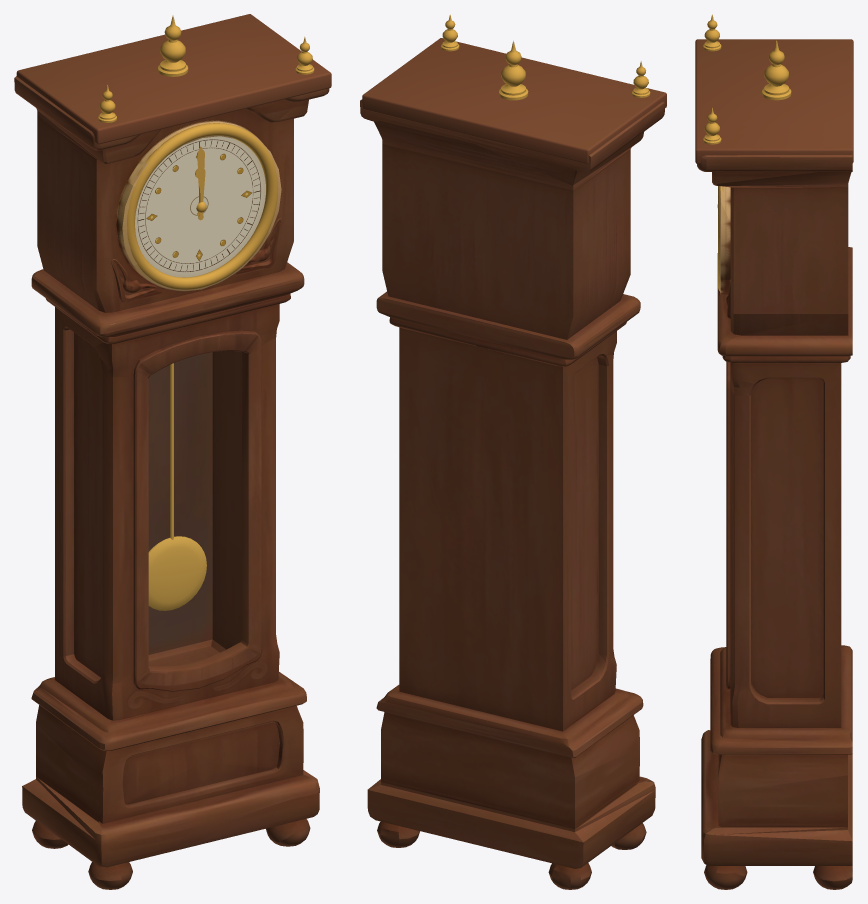
The model's file is grandfather_clock_v3.glb.
3 views of the same model, side by side, from view 1: azimuth 30°, elevation 25°; view 2: azimuth 150°, elevation 25°; view 3: azimuth 270°, elevation 25° (orthographic). The views are drawn at different scales.
Parts seen in each view (by area): view 1: clock_body, pendulum; view 2: clock_body; view 3: clock_body.
Boxes of the visible parts, x1,y1,x2,y2 form: clock_body: (14, 14, 331, 889); pendulum: (148, 363, 206, 610); clock_body: (360, 14, 666, 889); clock_body: (695, 14, 853, 889).
Size of the model in its own units: 0.7257 by 2.41 by 0.43.
4 materials, 2 textured.
